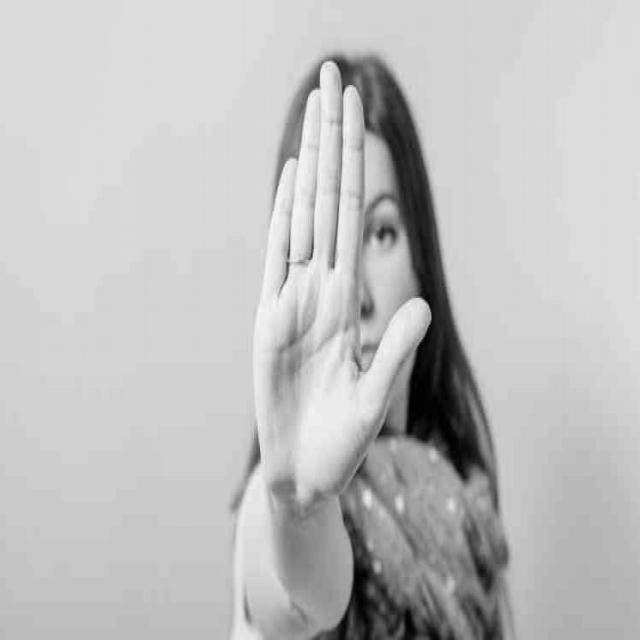stop: (249, 53, 436, 510)
